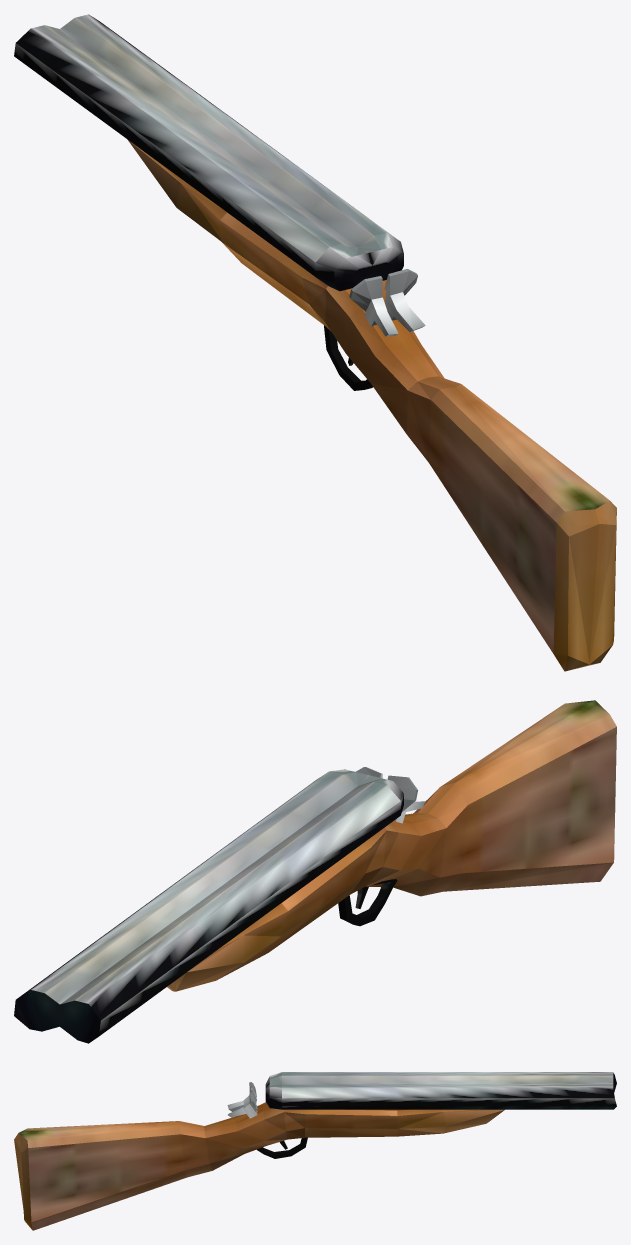
Rendered from gun.obj.
The picture shows the model from 3 angles, top to bottom: view 1: azimuth 30°, elevation 25°; view 2: azimuth 150°, elevation 25°; view 3: azimuth 270°, elevation 25°; orthographic projection. The views are drawn at different scales.
Visible parts, largest first — view 1: Cube, Cube.001, Cube.003, Cube.002; view 2: Cube, Cube.001, Cube.002, Cube.003; view 3: Cube, Cube.001, Cube.003, Cube.002.
Part boxes in pixels (<box>): Cube: <box>127,139,616,671</box>; Cube.001: <box>14,14,403,291</box>; Cube.003: <box>349,269,425,336</box>; Cube.002: <box>324,325,372,390</box>; Cube: <box>167,700,616,991</box>; Cube.001: <box>14,769,403,1043</box>; Cube.002: <box>338,879,397,926</box>; Cube.003: <box>355,767,425,823</box>; Cube: <box>14,1102,504,1230</box>; Cube.001: <box>265,1072,616,1109</box>; Cube.003: <box>227,1082,257,1118</box>; Cube.002: <box>256,1137,307,1158</box>.
Size of the model in its own units: 0.2054 by 0.6059 by 2.27.
Materials: 1 (1 with a texture image).
